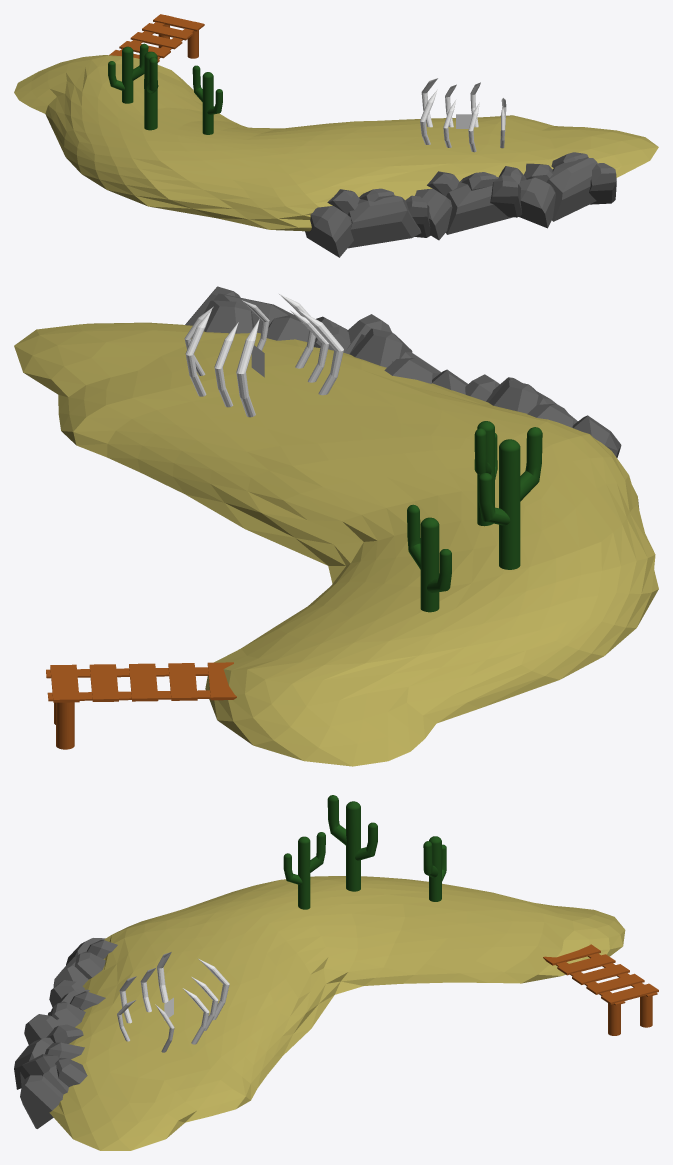
Rendered from island_desert.fbx.
3 renders of one model, top to bottom at view 1: azimuth 30°, elevation 25°; view 2: azimuth 150°, elevation 25°; view 3: azimuth 270°, elevation 25°, orthographic. The views are drawn at different scales.
Visible parts, largest first — view 1: Island, Cube.008, Port, Cube.013, Cube.003, Cube.009, Cube.014, Cactus 1.001, Cactus 1.002, Cactus 1, Cube.004, Cube (+9 smaller); view 2: Island, Port, Cactus 1, Cactus 1.001, Cone, Cactus 1.002, Cube.001, Cube.011, Cone.003, Cone.001, Cube.006, Cube.012 (+4 smaller); view 3: Island, Port, Cactus 1, Cactus 1.002, Cube.010, Cactus 1.001, Cube.013, Cone, Cube, Cube.014, Cube.011, Cone.001 (+3 smaller).
Boxes of the visible parts, x1,y1,x2,y2 form: Island: [14, 55, 658, 231]; Cube.008: [348, 195, 421, 248]; Port: [109, 14, 204, 62]; Cube.013: [546, 158, 597, 221]; Cube.003: [446, 177, 512, 234]; Cube.009: [305, 206, 353, 257]; Cube.014: [519, 177, 555, 228]; Cactus 1.001: [108, 43, 148, 103]; Cactus 1.002: [192, 65, 222, 134]; Cactus 1: [144, 51, 158, 130]; Cube.004: [415, 188, 452, 240]; Cube: [490, 175, 521, 217]; Island: [14, 322, 658, 766]; Port: [46, 662, 236, 749]; Cactus 1: [478, 427, 542, 569]; Cactus 1.001: [407, 504, 451, 612]; Cone: [236, 310, 343, 417]; Cactus 1.002: [474, 421, 497, 526]; Cube.001: [350, 328, 412, 367]; Cube.011: [204, 300, 253, 333]; Cone.003: [214, 310, 329, 407]; Cone.001: [185, 294, 315, 396]; Cube.006: [488, 380, 542, 413]; Cube.012: [266, 315, 309, 341]; Island: [49, 876, 625, 1150]; Port: [543, 944, 658, 1035]; Cactus 1: [327, 795, 377, 891]; Cactus 1.002: [283, 832, 325, 909]; Cube.010: [20, 1075, 63, 1128]; Cactus 1.001: [423, 836, 446, 901]; Cube.013: [20, 1054, 68, 1094]; Cone: [157, 952, 229, 1020]; Cube: [24, 1014, 62, 1044]; Cube.014: [14, 1037, 53, 1089]; Cube.011: [55, 1057, 87, 1086]; Cone.001: [119, 976, 209, 1044].
Bounding box in the file's own units: 6519 × 1790 × 6903.
